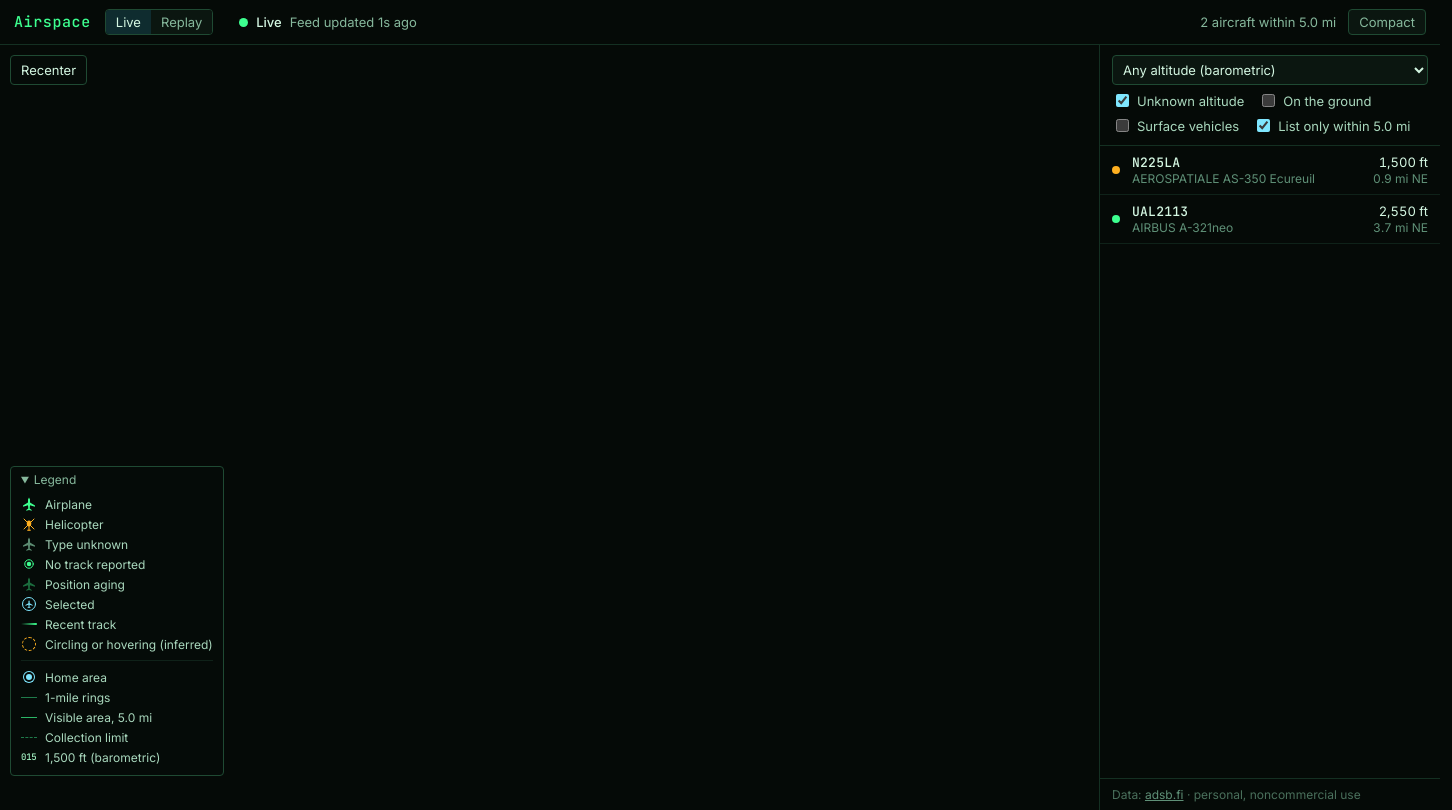
Test case: Map extras › compact mode keeps the map and credit, drops the panel and pins the selection card
expect the list with test id "aircraft-list" is shown: met, box [1100,146,1440,244]
Click the button with test id "compact-toggle" at x=1387, y=22, box [1348,9,1426,35]
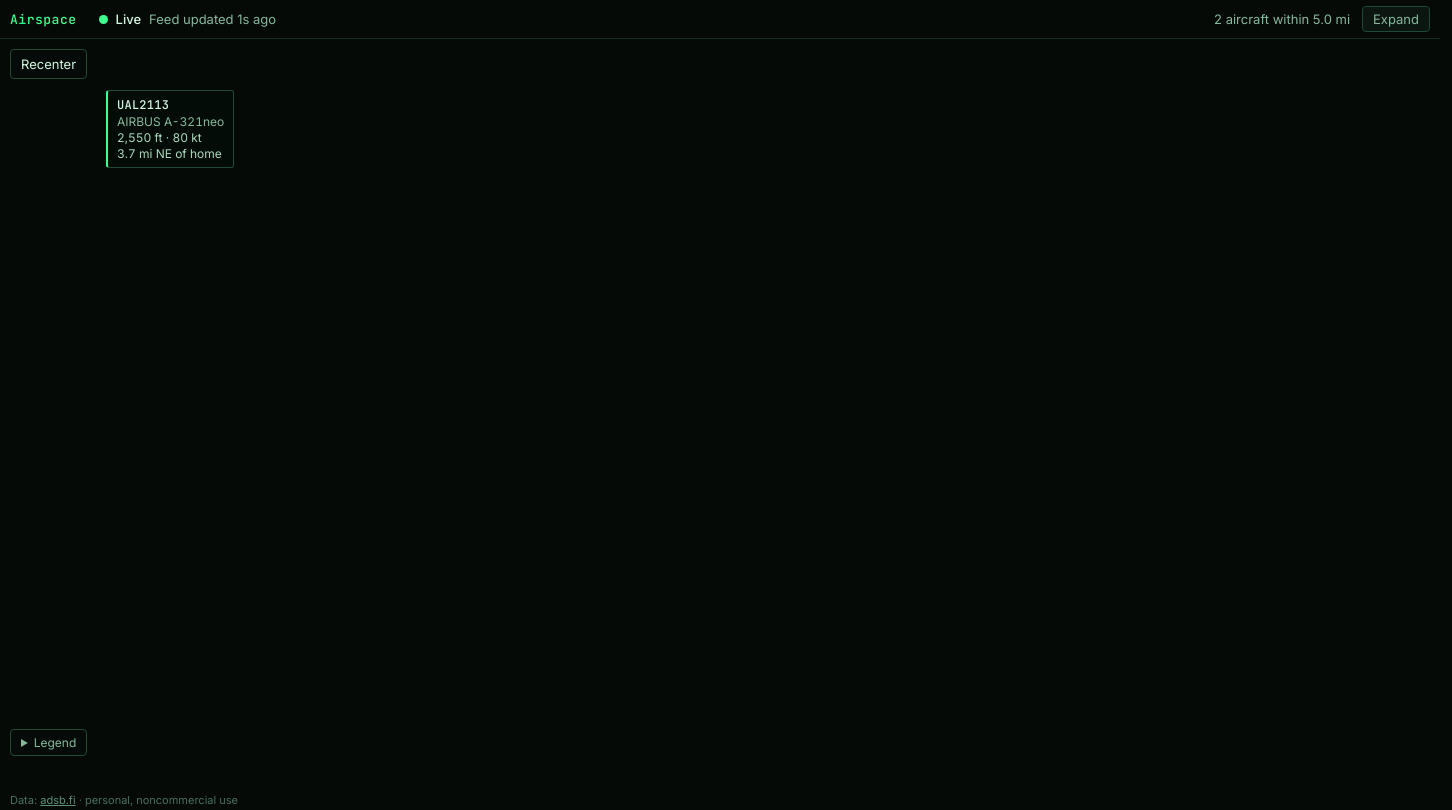
expect the text "Data: adsb.fi · personal, noncommercial use" is shown: met, box [10,793,238,807]
expect the list with test id "aircraft-list" is gone: met
expect the tooltip with test id "map-tooltip" shows "UAL2113": met, box [117,97,169,113]
Click the button with test id "compact-toggle" at x=1396, y=19, box [1362,6,1430,32]
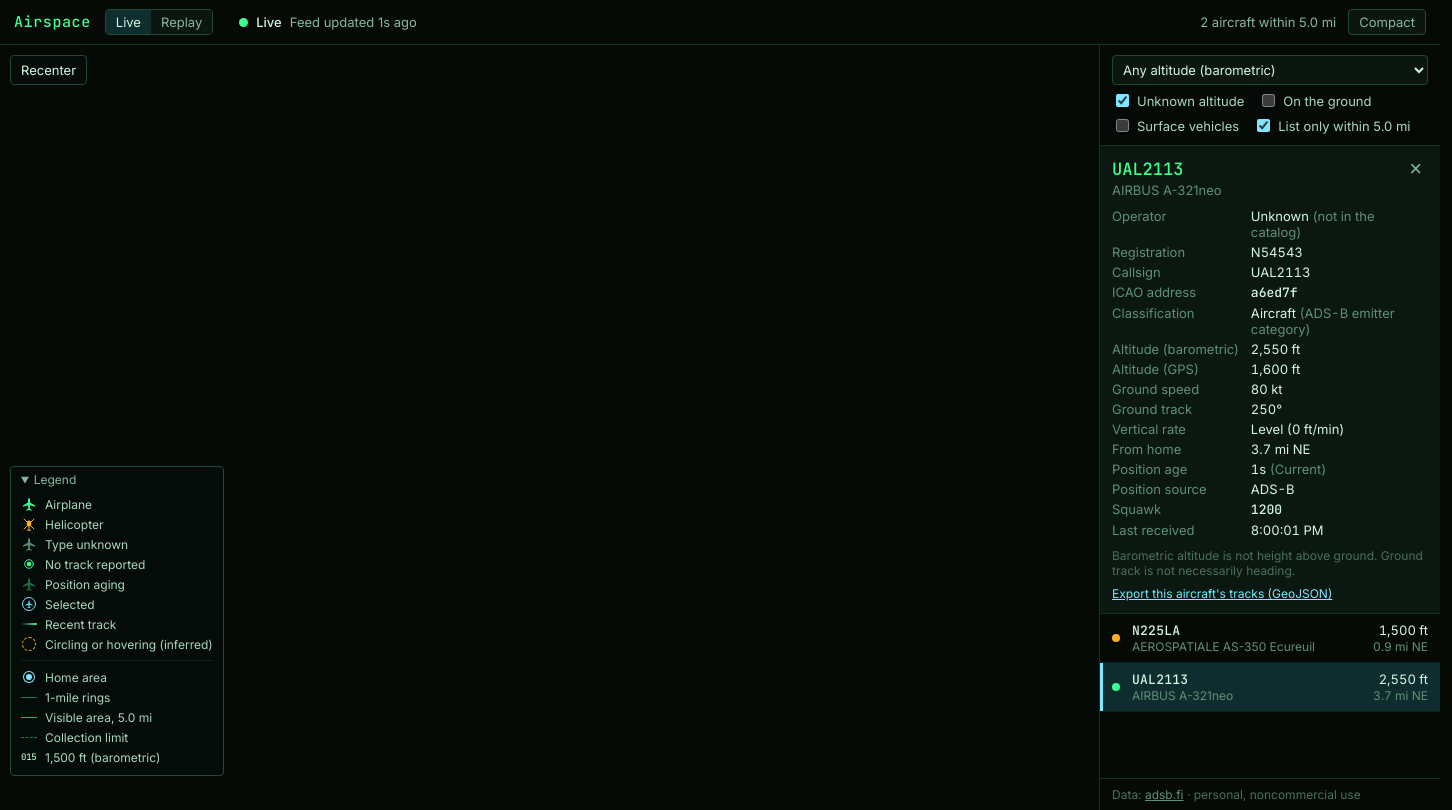
expect the element with test id "detail" shows "UAL2113": met, box [1112,158,1183,180]
expect the tooltip with test id "map-tooltip" is gone: met
